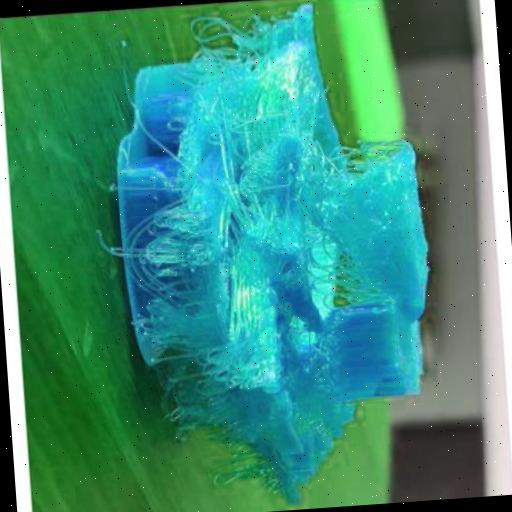spaghetti: (89, 132, 445, 412), (155, 0, 338, 143), (168, 390, 370, 512)
